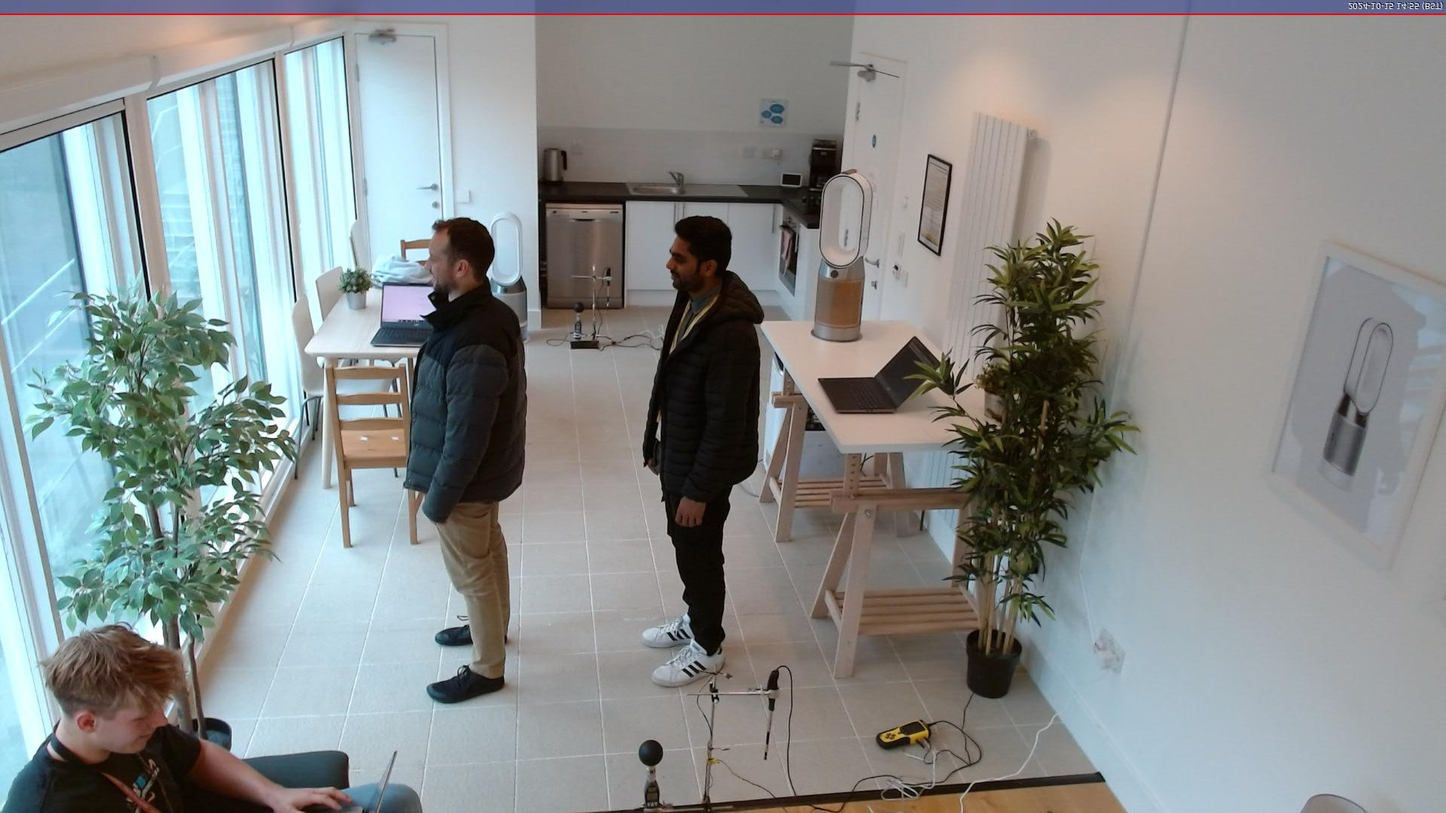coat: (404, 273, 529, 524), (640, 262, 768, 501)
short sleeve shirt: (0, 708, 206, 813)
trousers: (435, 499, 511, 677), (657, 486, 731, 658), (288, 780, 426, 813)
